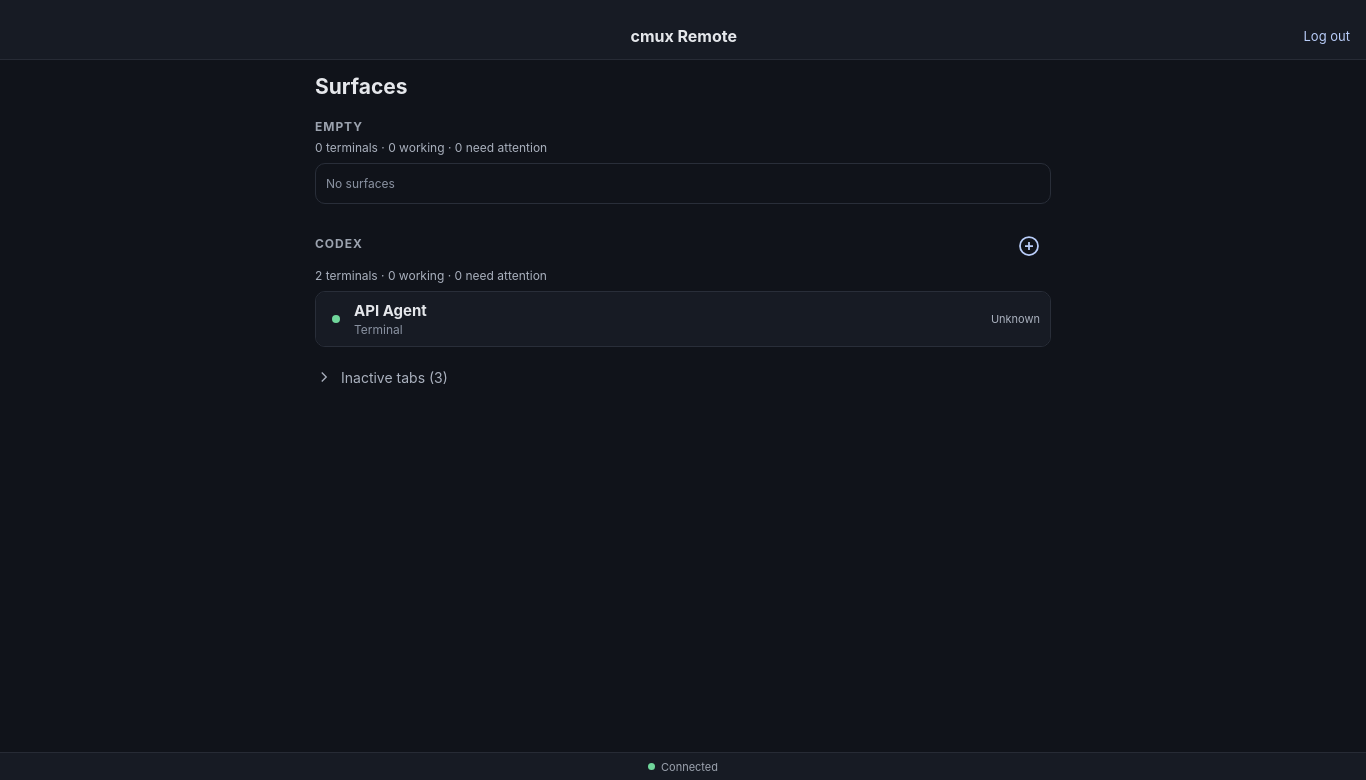
Test: does not replay bulk closes after cancellation or an uncertain result (confirmed=true)
What coordinates should you click on to do the following:
click the heading "Inactive tabs (3)"
I would click on:
 (381, 377)
Its box is [315, 368, 448, 386].
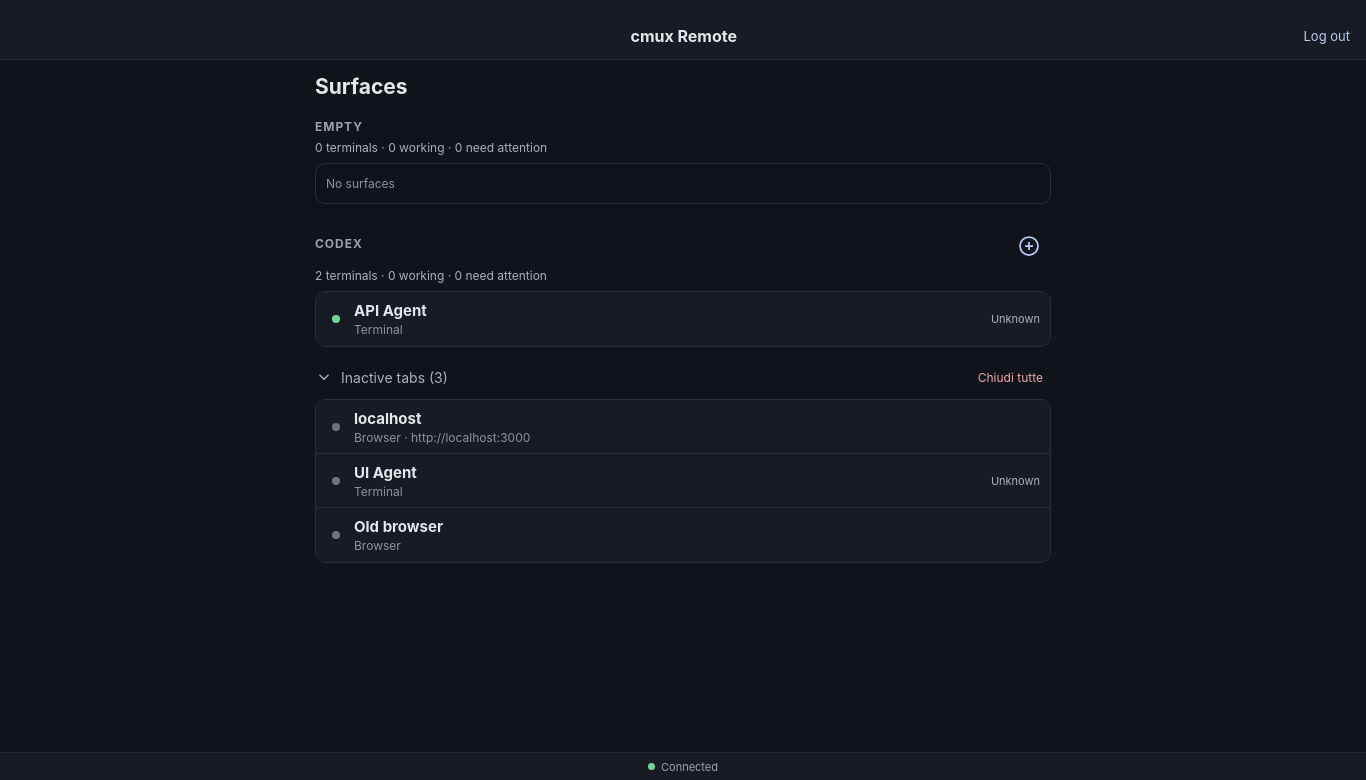
What coordinates should you click on to do the following:
click the button with aria-label "Chiudi tutti i tab inattivi in CODEX"
I would click on:
 (1010, 377)
Its box is [970, 355, 1051, 399].
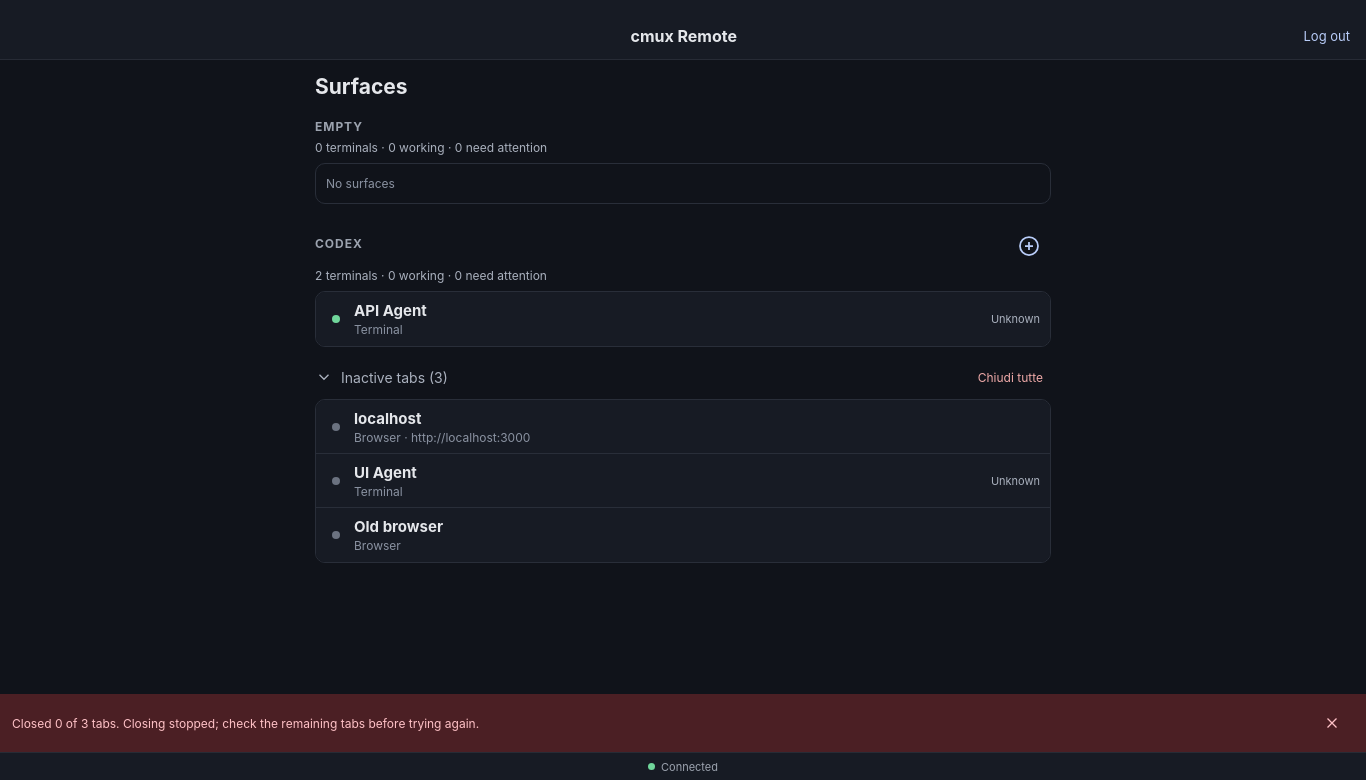
Check: the message is shown, box [0, 694, 1365, 752]
